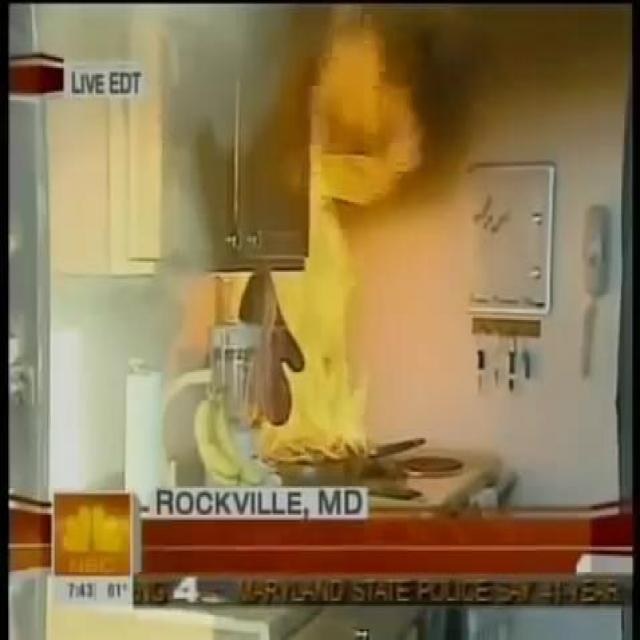fire: (254, 25, 412, 476)
